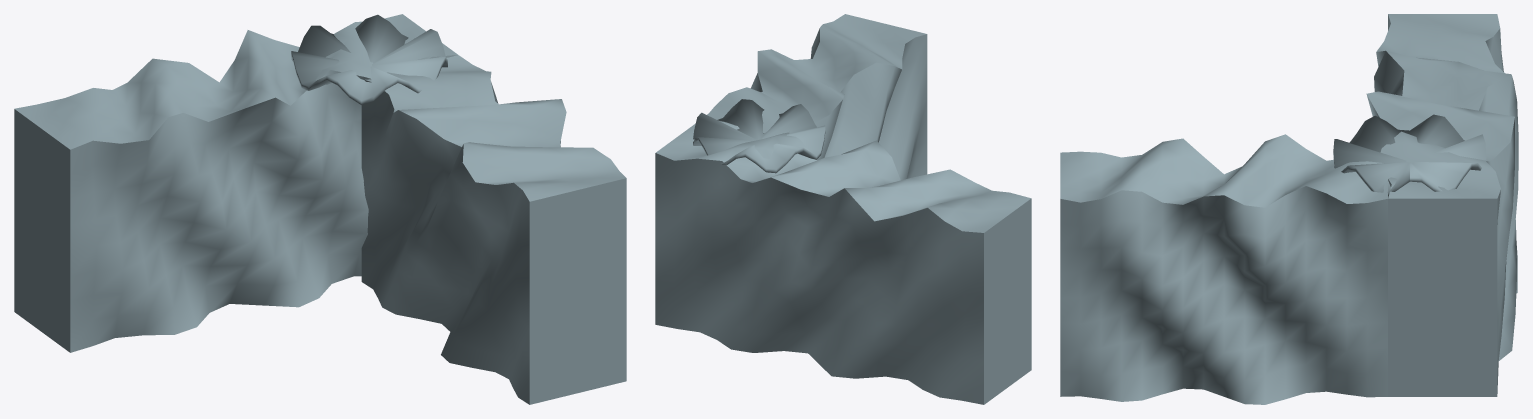
File: reef-wall-corner.glb
3 renders of one model, left to right at view 1: azimuth 30°, elevation 25°; view 2: azimuth 150°, elevation 25°; view 3: azimuth 270°, elevation 25°, orthographic. The views are drawn at different scales.
Visible parts, largest first — view 1: reef-wall-corner; view 2: reef-wall-corner; view 3: reef-wall-corner.
Part boxes in pixels (x1,y1,x2,y2): reef-wall-corner: (14,14,626,404); reef-wall-corner: (655,14,1031,404); reef-wall-corner: (1060,14,1518,404).
Bounding box in the file's own units: 4.2 × 2.18 × 4.2.
